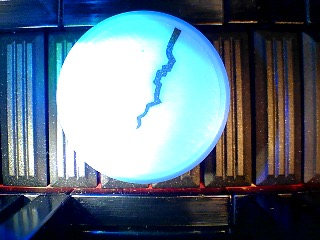CRACK: (55, 10, 230, 185)
